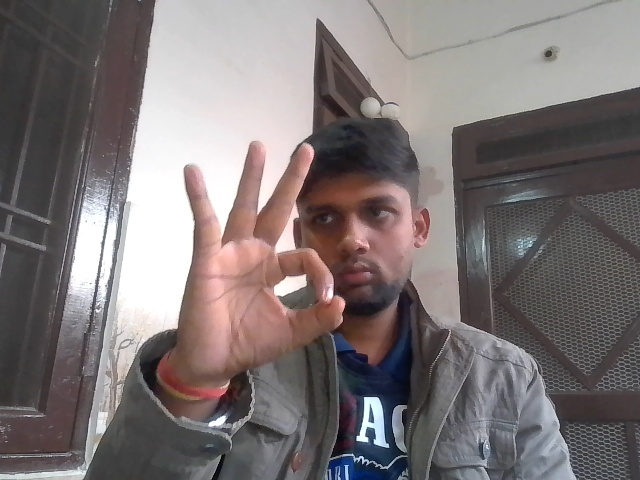Good: (163, 139, 352, 392)
